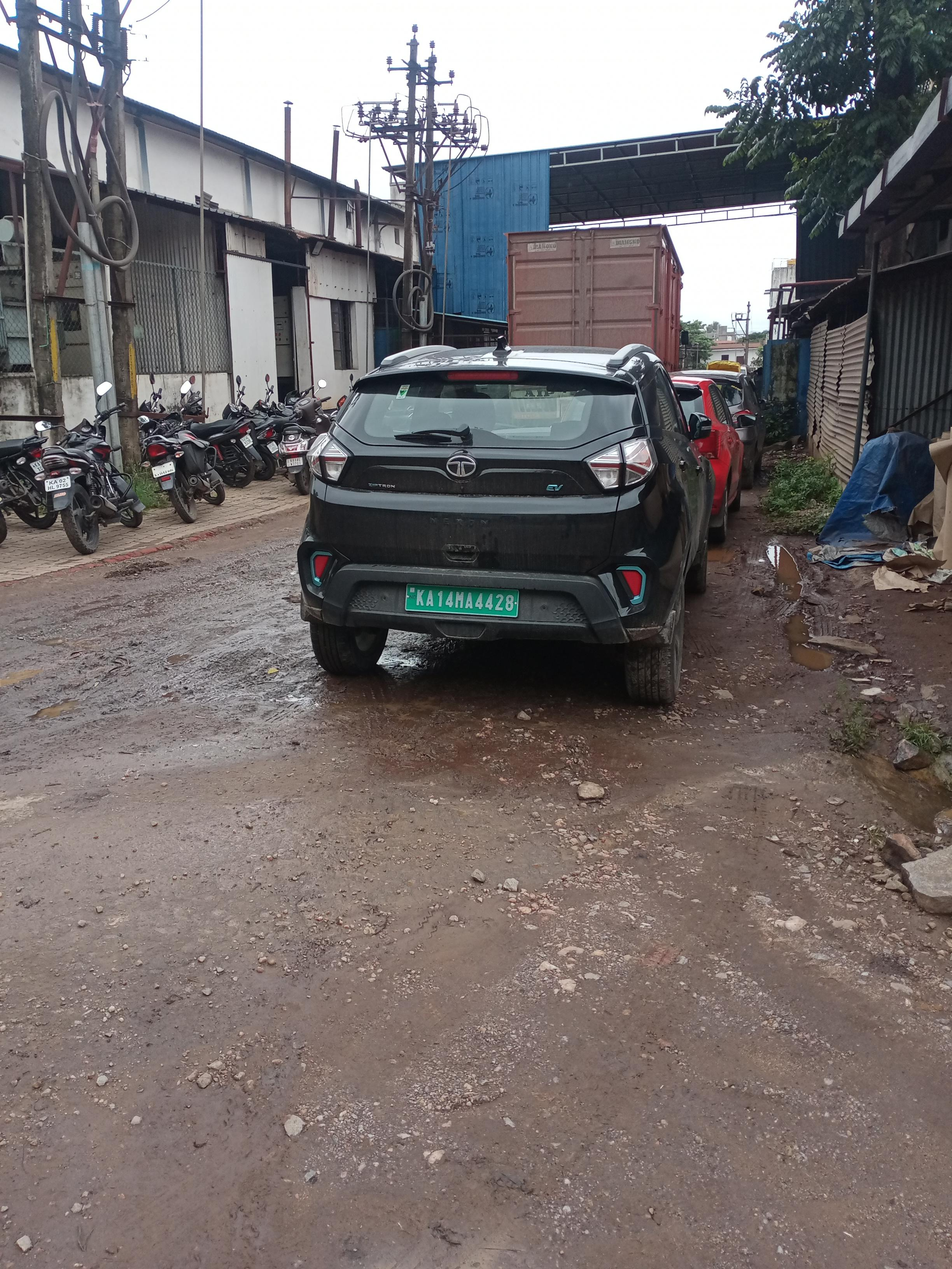green license plate: (394, 586, 515, 622)
